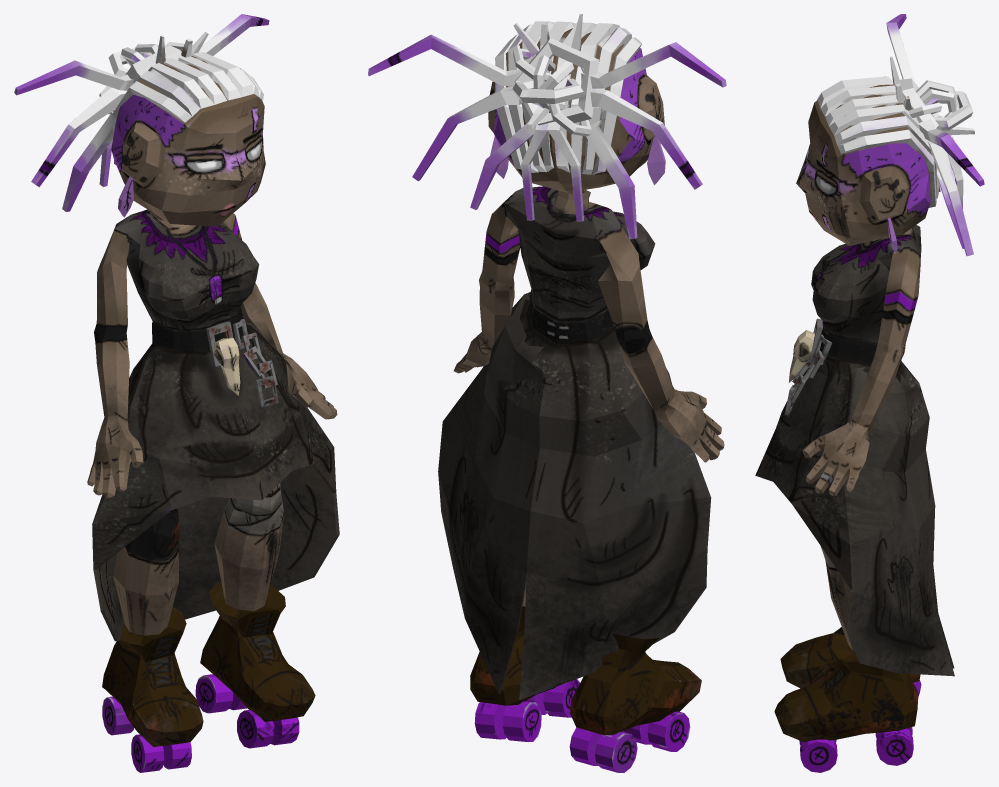
Rendered from bruja_000046.obj.
3 views of the same model, side by side, from view 1: azimuth 30°, elevation 25°; view 2: azimuth 150°, elevation 25°; view 3: azimuth 270°, elevation 25° (orthographic). The views are drawn at different scales.
Parts seen in each view (by area): view 1: Bruja_Plane.001; view 2: Bruja_Plane.001; view 3: Bruja_Plane.001.
Boxes of the visible parts, left/top/right/bottom form: Bruja_Plane.001: left=14, top=14, right=339, bottom=772; Bruja_Plane.001: left=368, top=14, right=726, bottom=772; Bruja_Plane.001: left=755, top=14, right=984, bottom=772.
Bounding box in the file's own units: 7.27 × 16.49 × 5.08.
